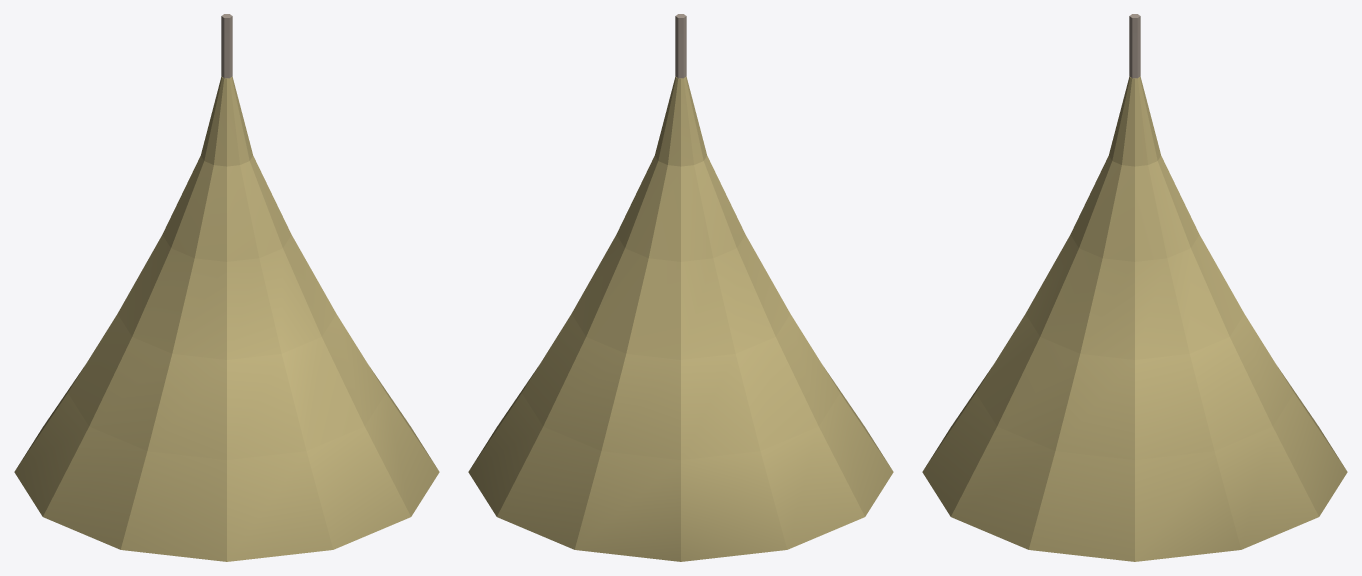
Rendered from haystack_0.glb.
3 renders of one model, left to right at view 1: azimuth 30°, elevation 25°; view 2: azimuth 150°, elevation 25°; view 3: azimuth 270°, elevation 25°, orthographic.
Parts seen in each view (by area): view 1: haystack_0; view 2: haystack_0; view 3: haystack_0.
Boxes of the visible parts, x1,y1,x2,y2 form: haystack_0: [14, 14, 439, 561]; haystack_0: [468, 14, 893, 561]; haystack_0: [922, 14, 1347, 561].
Bounding box in the file's own units: 3.84 × 4.54 × 3.84.
